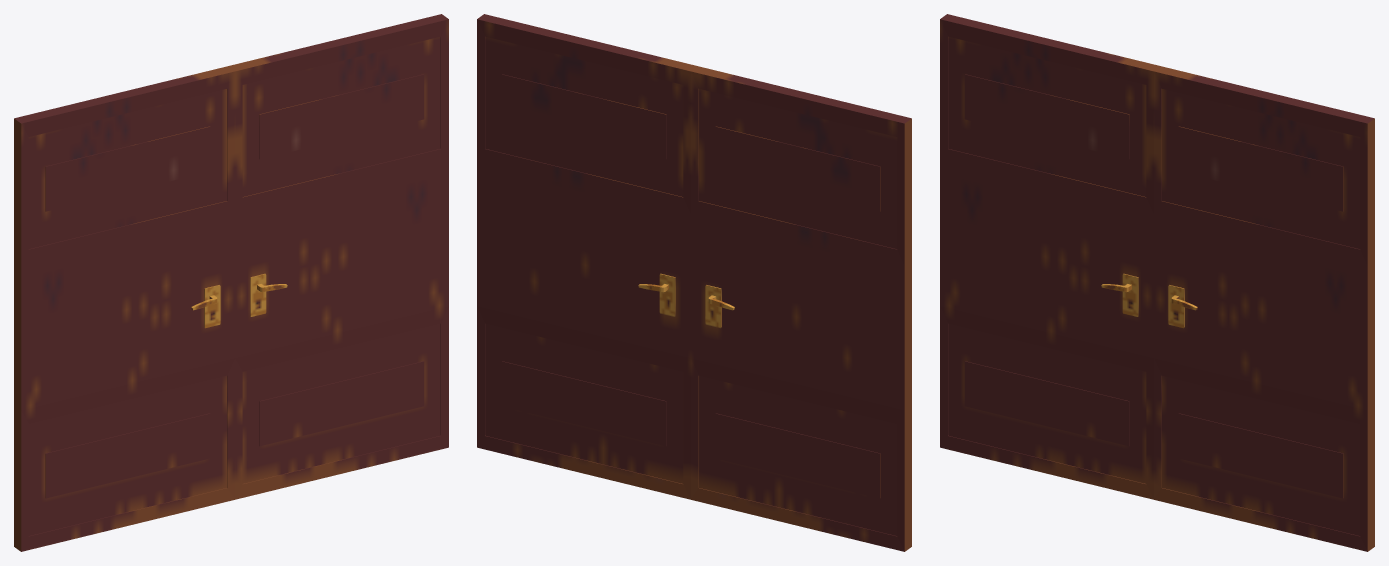
File: Double Door mesh.fbx
The picture shows the model from 3 angles, left to right: view 1: azimuth 30°, elevation 25°; view 2: azimuth 150°, elevation 25°; view 3: azimuth 330°, elevation 25°; orthographic projection.
Parts seen in each view (by area): view 1: Double Door Left, Double Door Right; view 2: Double Door Left, Double Door Right; view 3: Double Door Right, Double Door Left.
Part boxes in pixels (bbox=[...]): Double Door Left: bbox=[14, 66, 234, 551]; Double Door Right: bbox=[228, 14, 448, 499]; Double Door Left: bbox=[691, 66, 911, 551]; Double Door Right: bbox=[477, 14, 697, 499]; Double Door Right: bbox=[1154, 66, 1374, 551]; Double Door Left: bbox=[940, 14, 1160, 499].
Size of the model in its own units: 2.39 by 2.29 by 0.1679.
